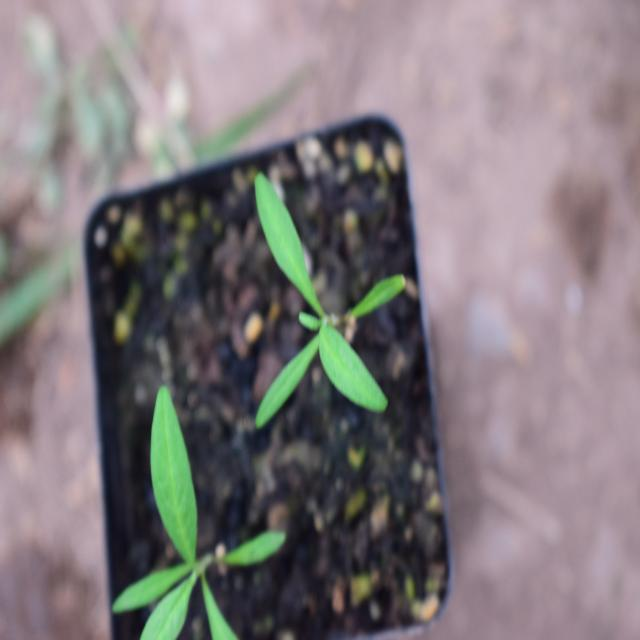white_smart_weed: (228, 160, 423, 475), (92, 392, 267, 631)
